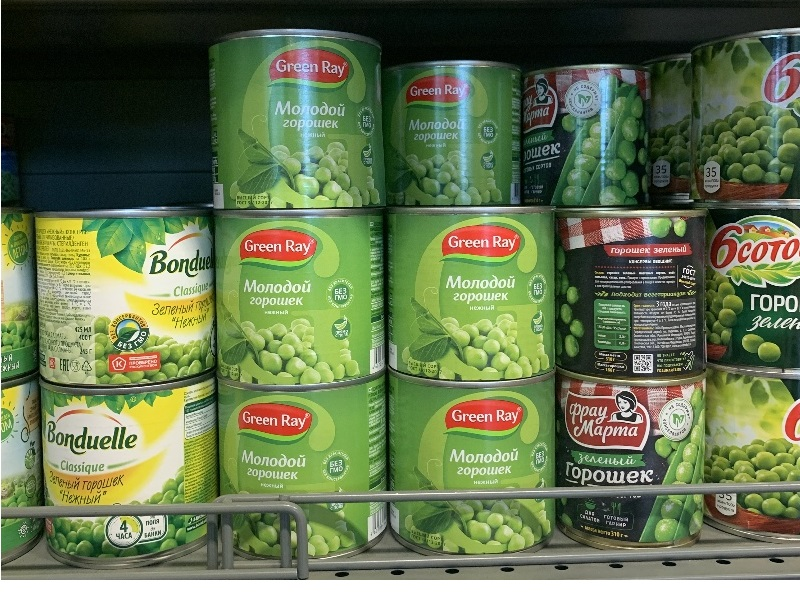peas: (196, 24, 396, 218), (25, 203, 230, 387), (206, 202, 399, 389), (378, 201, 570, 388), (385, 365, 569, 557), (375, 53, 537, 217)
